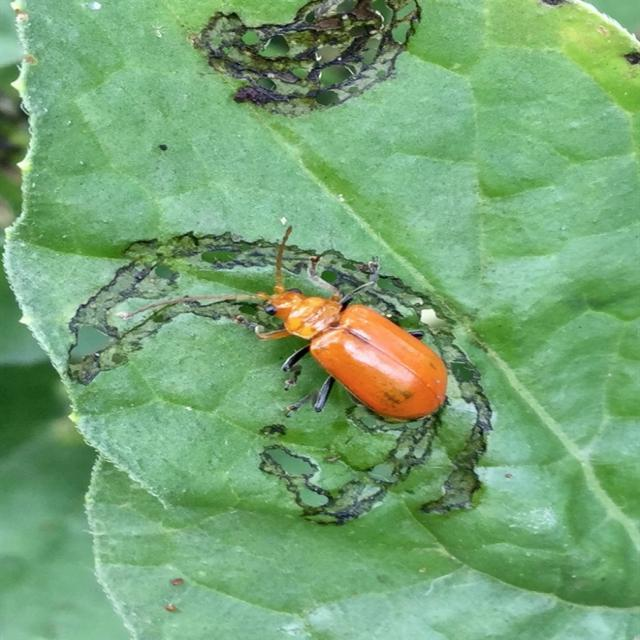Pumpkin Beetle: (56, 220, 521, 533), (174, 0, 453, 119)
